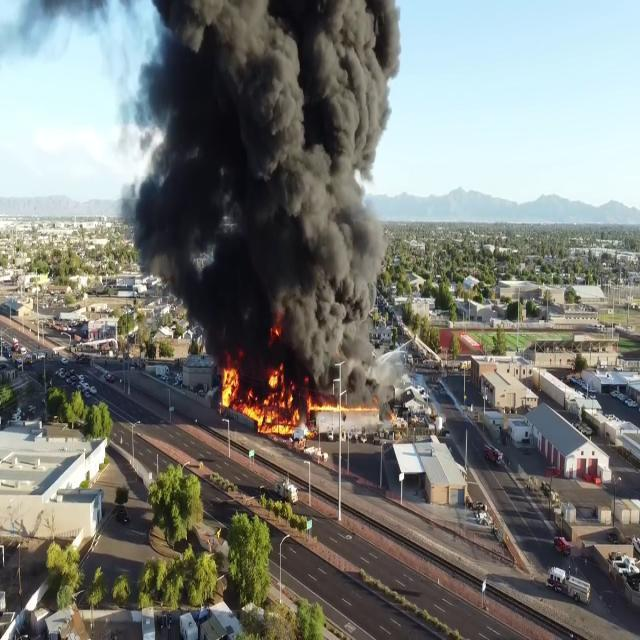Fire: (221, 352, 320, 438), (306, 397, 380, 417)
Smoke: (100, 0, 414, 383)
